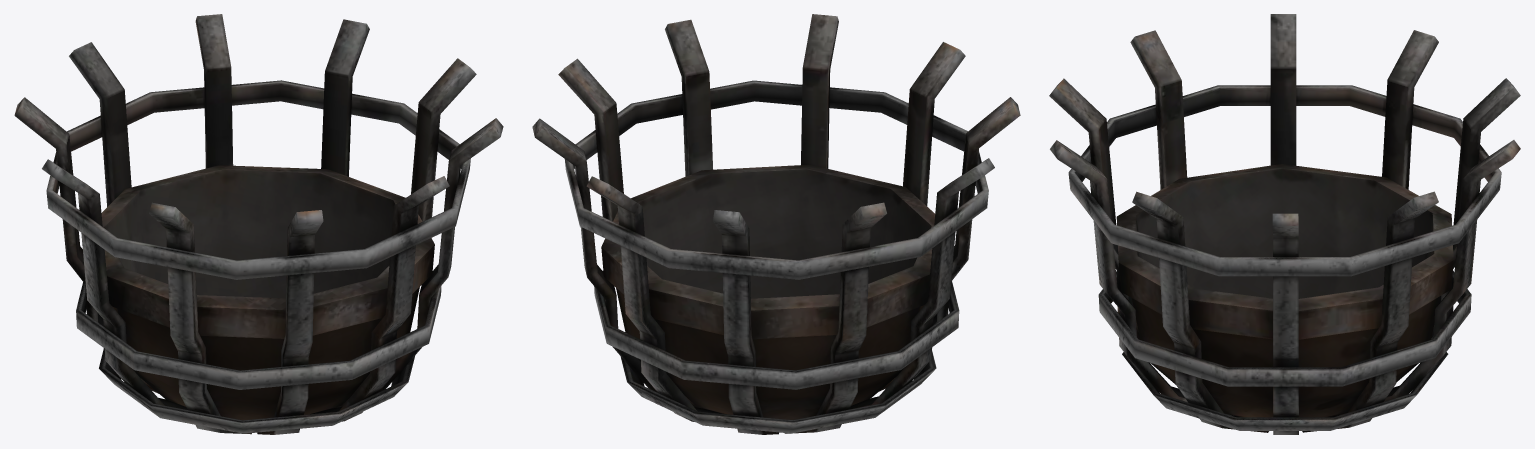
Rendered from brazier.glb.
The picture shows the model from 3 angles, left to right: view 1: azimuth 30°, elevation 25°; view 2: azimuth 150°, elevation 25°; view 3: azimuth 270°, elevation 25°; orthographic projection.
Visible parts, largest first — view 1: bra_Metal_0; view 2: bra_Metal_0; view 3: bra_Metal_0.
Part boxes in pixels (x1,y1,x2,y2): bra_Metal_0: (14,14,503,434); bra_Metal_0: (532,14,1020,434); bra_Metal_0: (1049,14,1520,434).
Size of the model in its own units: 106 by 71.86 by 102.
1 material, 1 textured.
